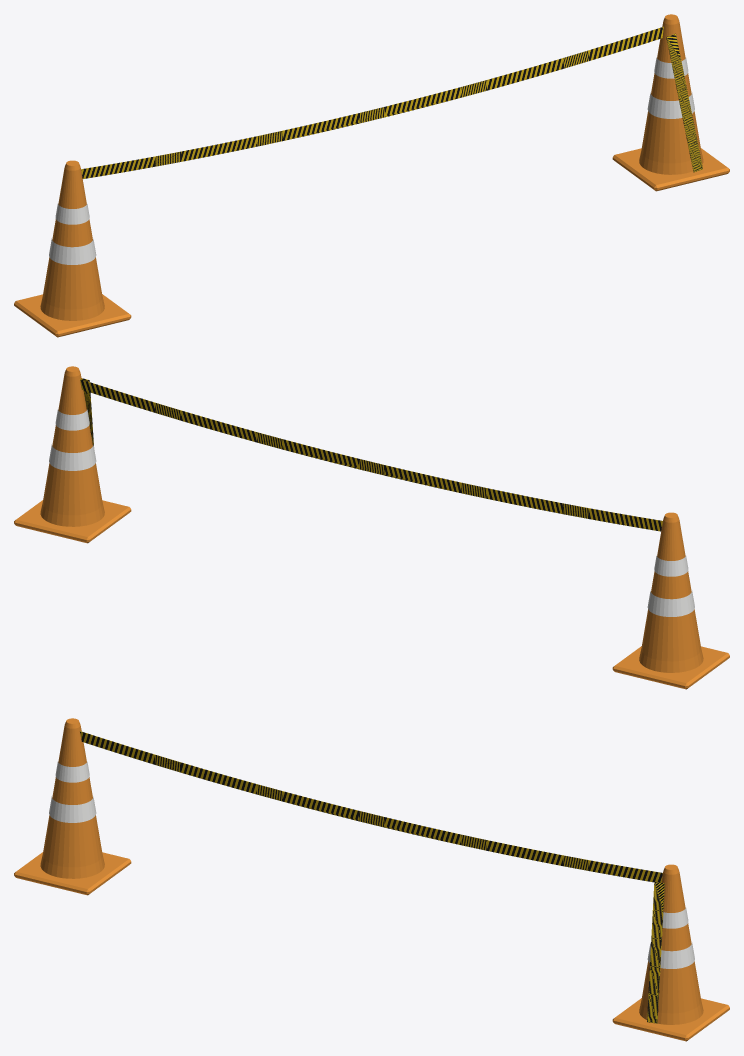
File: fita_isolamento.glb
The picture shows the model from 3 angles, top to bottom: view 1: azimuth 30°, elevation 25°; view 2: azimuth 150°, elevation 25°; view 3: azimuth 330°, elevation 25°; orthographic projection.
Parts seen in each view (by area): view 1: fita_isolamento_laranja, fita_isolamento_fita_zebra, fita_isolamento_branco_refletivo; view 2: fita_isolamento_laranja, fita_isolamento_fita_zebra, fita_isolamento_branco_refletivo; view 3: fita_isolamento_laranja, fita_isolamento_fita_zebra, fita_isolamento_branco_refletivo.
Boxes of the visible parts, <box> form: fita_isolamento_laranja: <box>14,14,729,337</box>; fita_isolamento_fita_zebra: <box>81,26,702,178</box>; fita_isolamento_branco_refletivo: <box>49,57,694,264</box>; fita_isolamento_laranja: <box>14,366,729,689</box>; fita_isolamento_fita_zebra: <box>80,378,662,531</box>; fita_isolamento_branco_refletivo: <box>49,409,694,616</box>; fita_isolamento_laranja: <box>14,718,729,1041</box>; fita_isolamento_fita_zebra: <box>80,731,664,1023</box>; fita_isolamento_branco_refletivo: <box>49,761,694,968</box>.
Size of the model in its own units: 3.38 by 0.72 by 0.393.
Materials: 3 (1 with a texture image).
